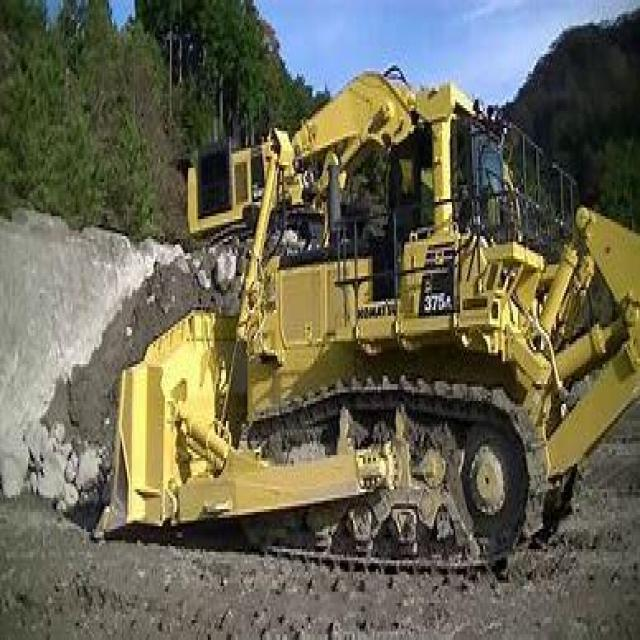Bulldozer: (99, 91, 637, 589)
